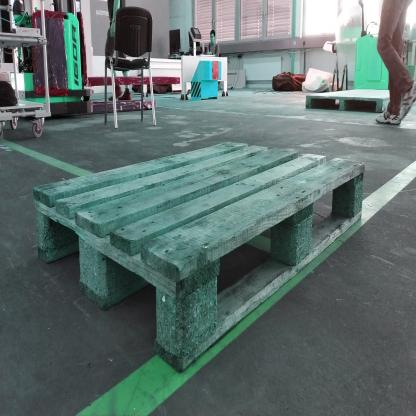BoxFace: (32, 137, 364, 372), (304, 89, 390, 117)
